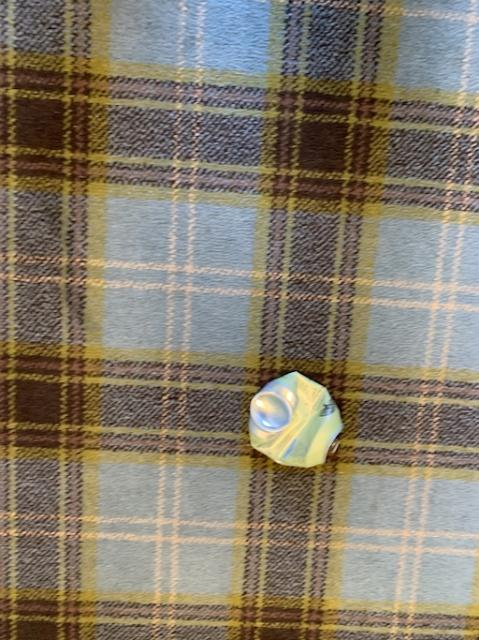metal: (248, 371, 342, 466)
